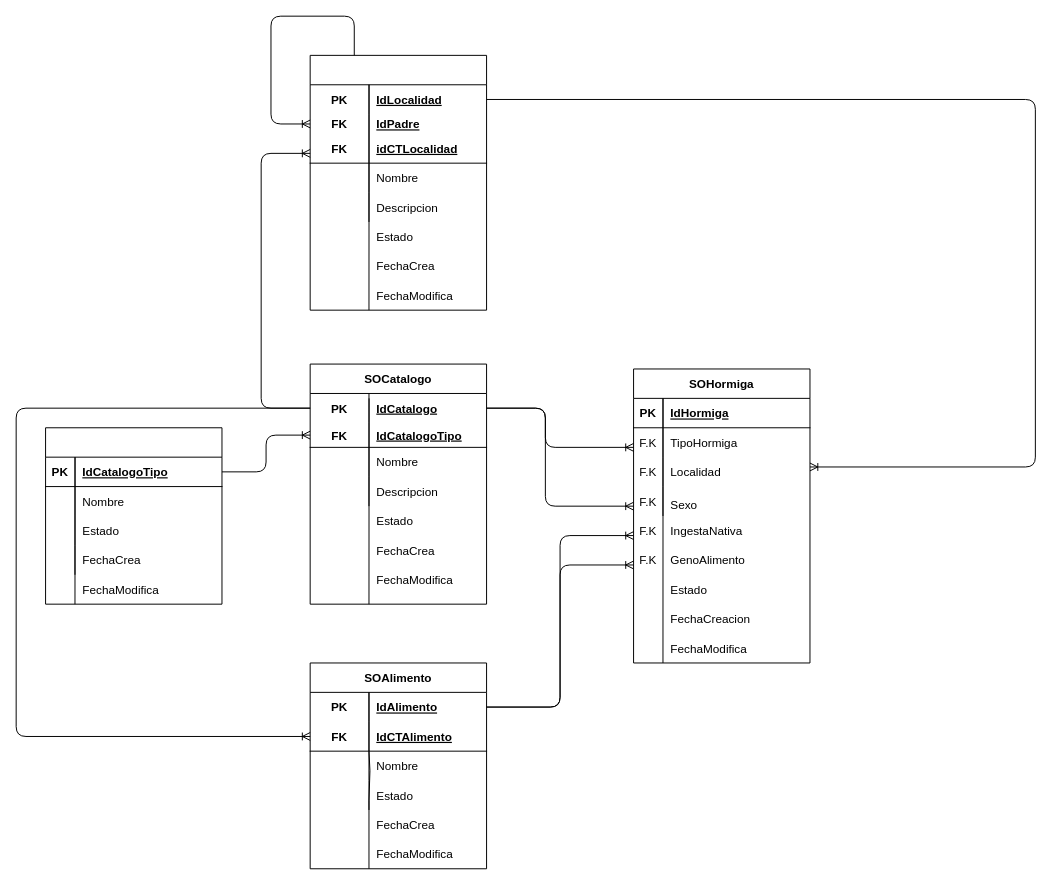
This 1052x885 diagram has some shape labels left out. The box of each missing label's shape, as (x1, y1, x2, y2) in pixels:
SOCatalogoTipo: (45, 427, 222, 604)
SOLocalidad: (309, 54, 487, 310)
